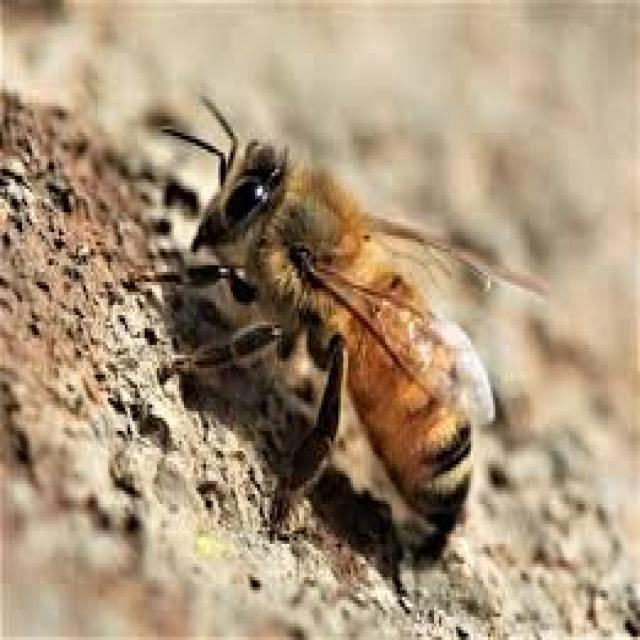Bees: (124, 76, 559, 576)
